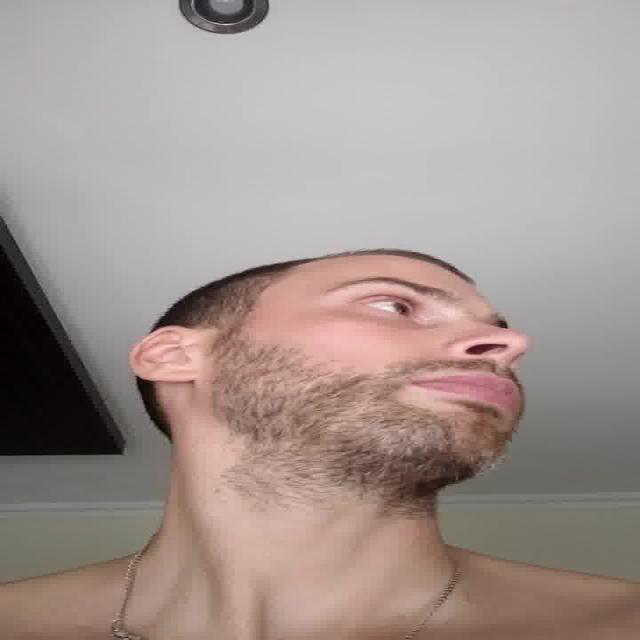earlobe: (137, 369, 200, 384)
eye: (356, 296, 420, 320)
nose: (455, 349, 521, 381)
wholeear: (134, 326, 206, 384)
